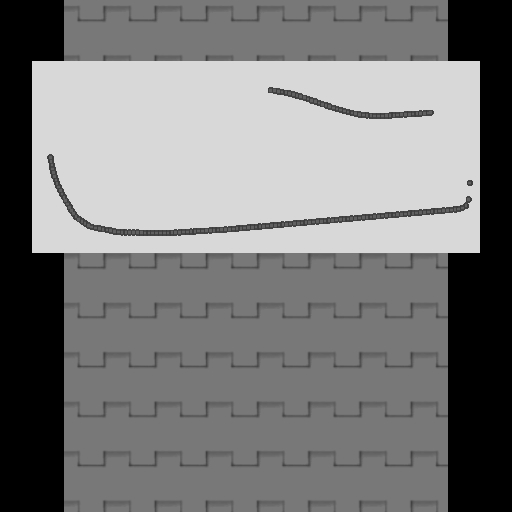Defect: (47, 79, 268, 155)
